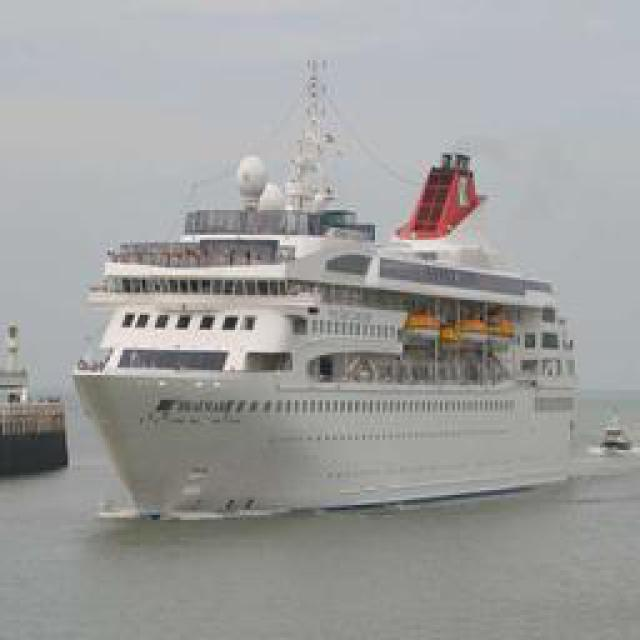Ship: (66, 118, 586, 516)
